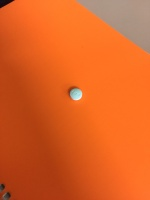Parol: (69, 87, 83, 101)
